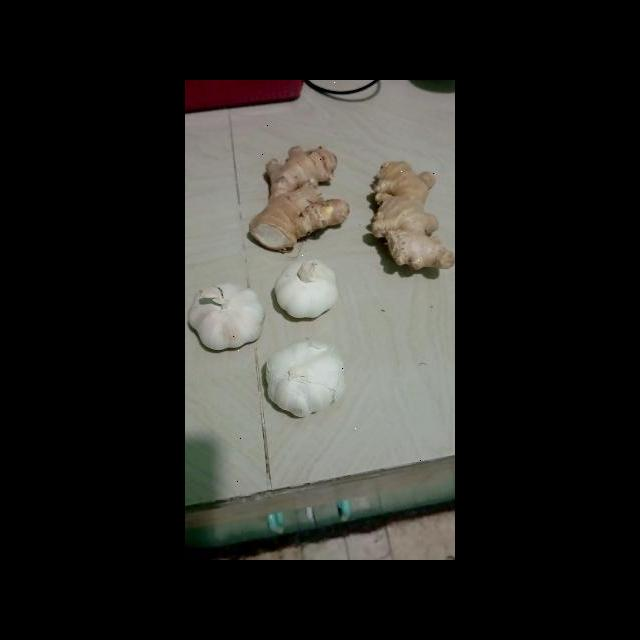garlic: (262, 336, 345, 416), (186, 280, 266, 353), (270, 254, 337, 321)
ginger: (252, 138, 352, 253), (369, 161, 455, 276)
